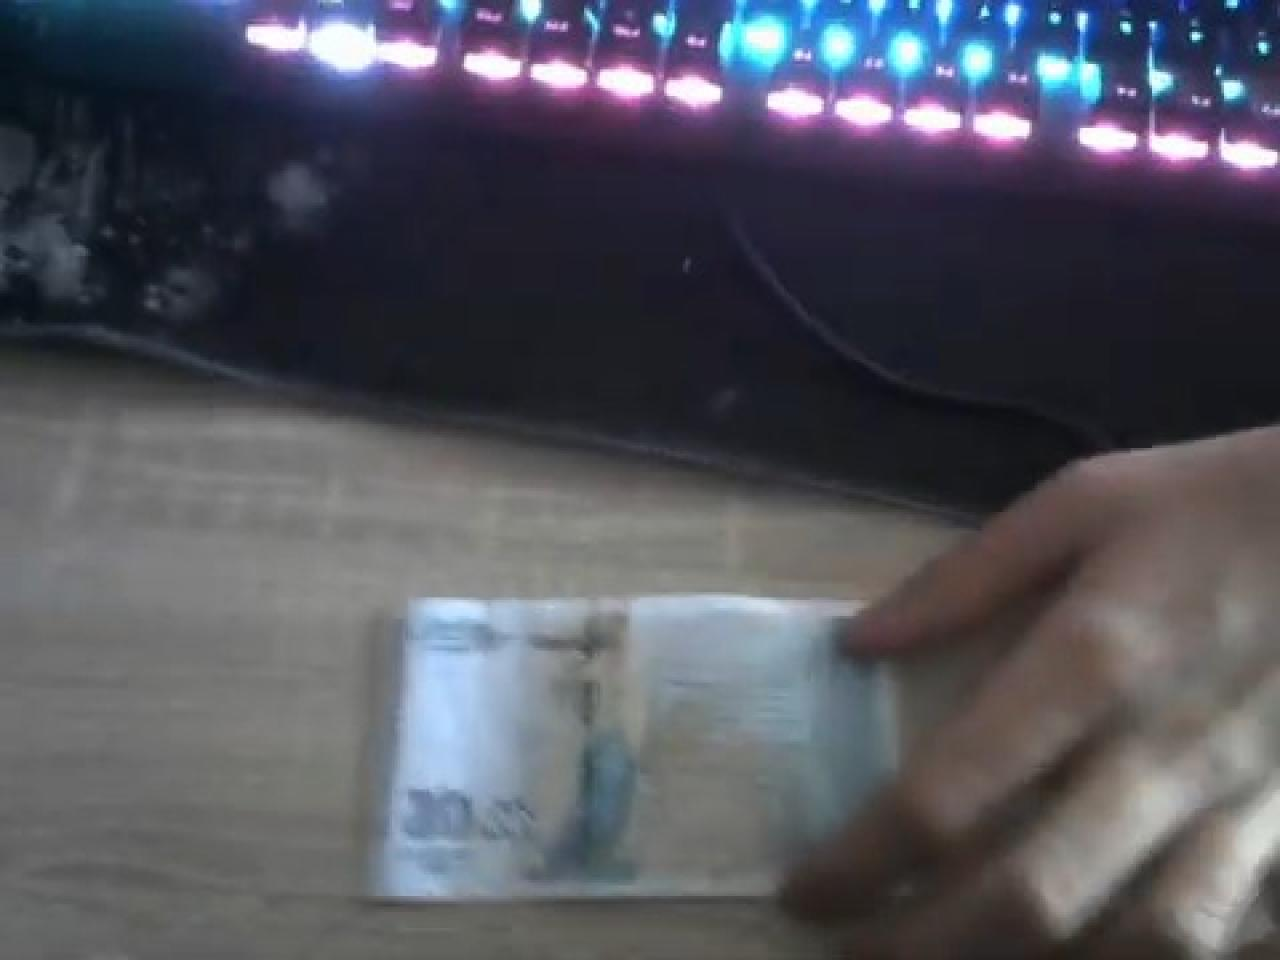20leva: (350, 536, 896, 915)
